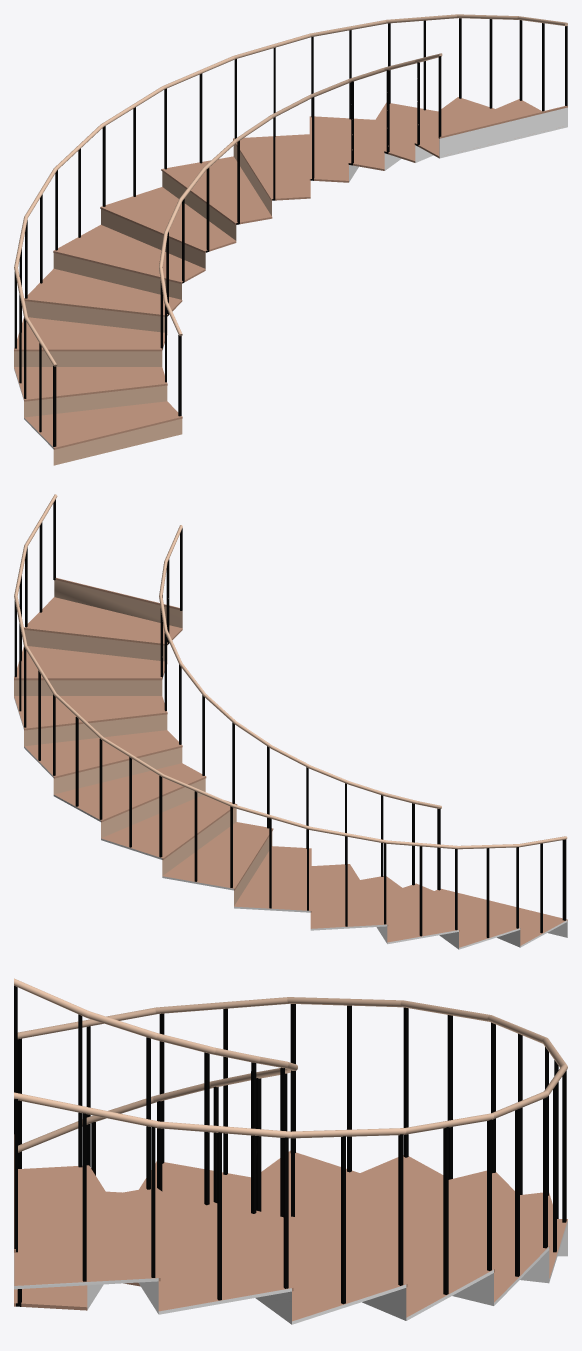
File: sweethome3d-contributions-semicircular-staircase.glb
3 views of the same model, one above another, from view 1: azimuth 30°, elevation 25°; view 2: azimuth 150°, elevation 25°; view 3: azimuth 270°, elevation 25° (orthographic). The views are drawn at different scales.
Visible parts, largest first — view 1: 73_73, 87_87, 70_70.001, 69_69.001, 70_70, 101_101, 69_69; view 2: 73_73, 87_87, 70_70.001, 69_69.001, 70_70, 101_101, 69_69; view 3: 73_73, 70_70.001, 69_69.001, 70_70, 69_69, 87_87.
Part boxes in pixels (left/top/right/bottom): 73_73: left=14, top=97, right=567, bottom=448; 87_87: left=14, top=107, right=567, bottom=465; 70_70.001: left=14, top=18, right=567, bottom=446; 69_69.001: left=14, top=14, right=567, bottom=366; 70_70: left=160, top=56, right=441, bottom=416; 101_101: left=14, top=105, right=567, bottom=449; 69_69: left=159, top=53, right=442, bottom=336; 73_73: left=14, top=597, right=567, bottom=949; 87_87: left=14, top=580, right=567, bottom=947; 70_70.001: left=14, top=499, right=566, bottom=937; 69_69.001: left=14, top=494, right=567, bottom=849; 70_70: left=160, top=528, right=440, bottom=890; 101_101: left=14, top=577, right=567, bottom=931; 69_69: left=159, top=525, right=441, bottom=808; 73_73: left=14, top=1150, right=567, bottom=1324; 70_70.001: left=14, top=1004, right=566, bottom=1304; 69_69.001: left=14, top=997, right=567, bottom=1138; 70_70: left=14, top=986, right=294, bottom=1306; 69_69: left=14, top=978, right=297, bottom=1152; 87_87: left=14, top=1223, right=567, bottom=1321.
Size of the model in its own units: 600 by 355 by 301.
